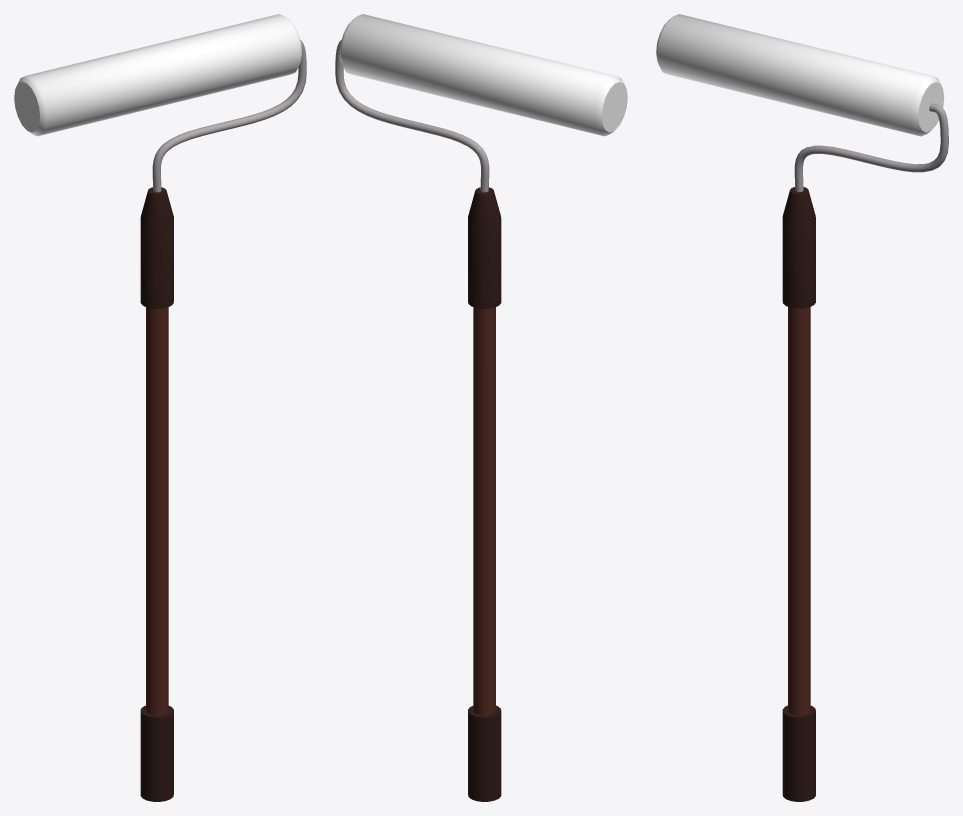
Rendered from Roller.glb.
The picture shows the model from 3 angles, left to right: view 1: azimuth 30°, elevation 25°; view 2: azimuth 150°, elevation 25°; view 3: azimuth 330°, elevation 25°; orthographic projection.
Visible parts, largest first — view 1: BezierCurve; view 2: BezierCurve; view 3: BezierCurve.
Part boxes in pixels (x1,y1,x2,y2): BezierCurve: [14, 14, 306, 801]; BezierCurve: [335, 14, 627, 801]; BezierCurve: [656, 14, 948, 801].
Bounding box in the file's own units: 0.7728 × 1.98 × 0.1488.
Materials: 1 (1 with a texture image).
